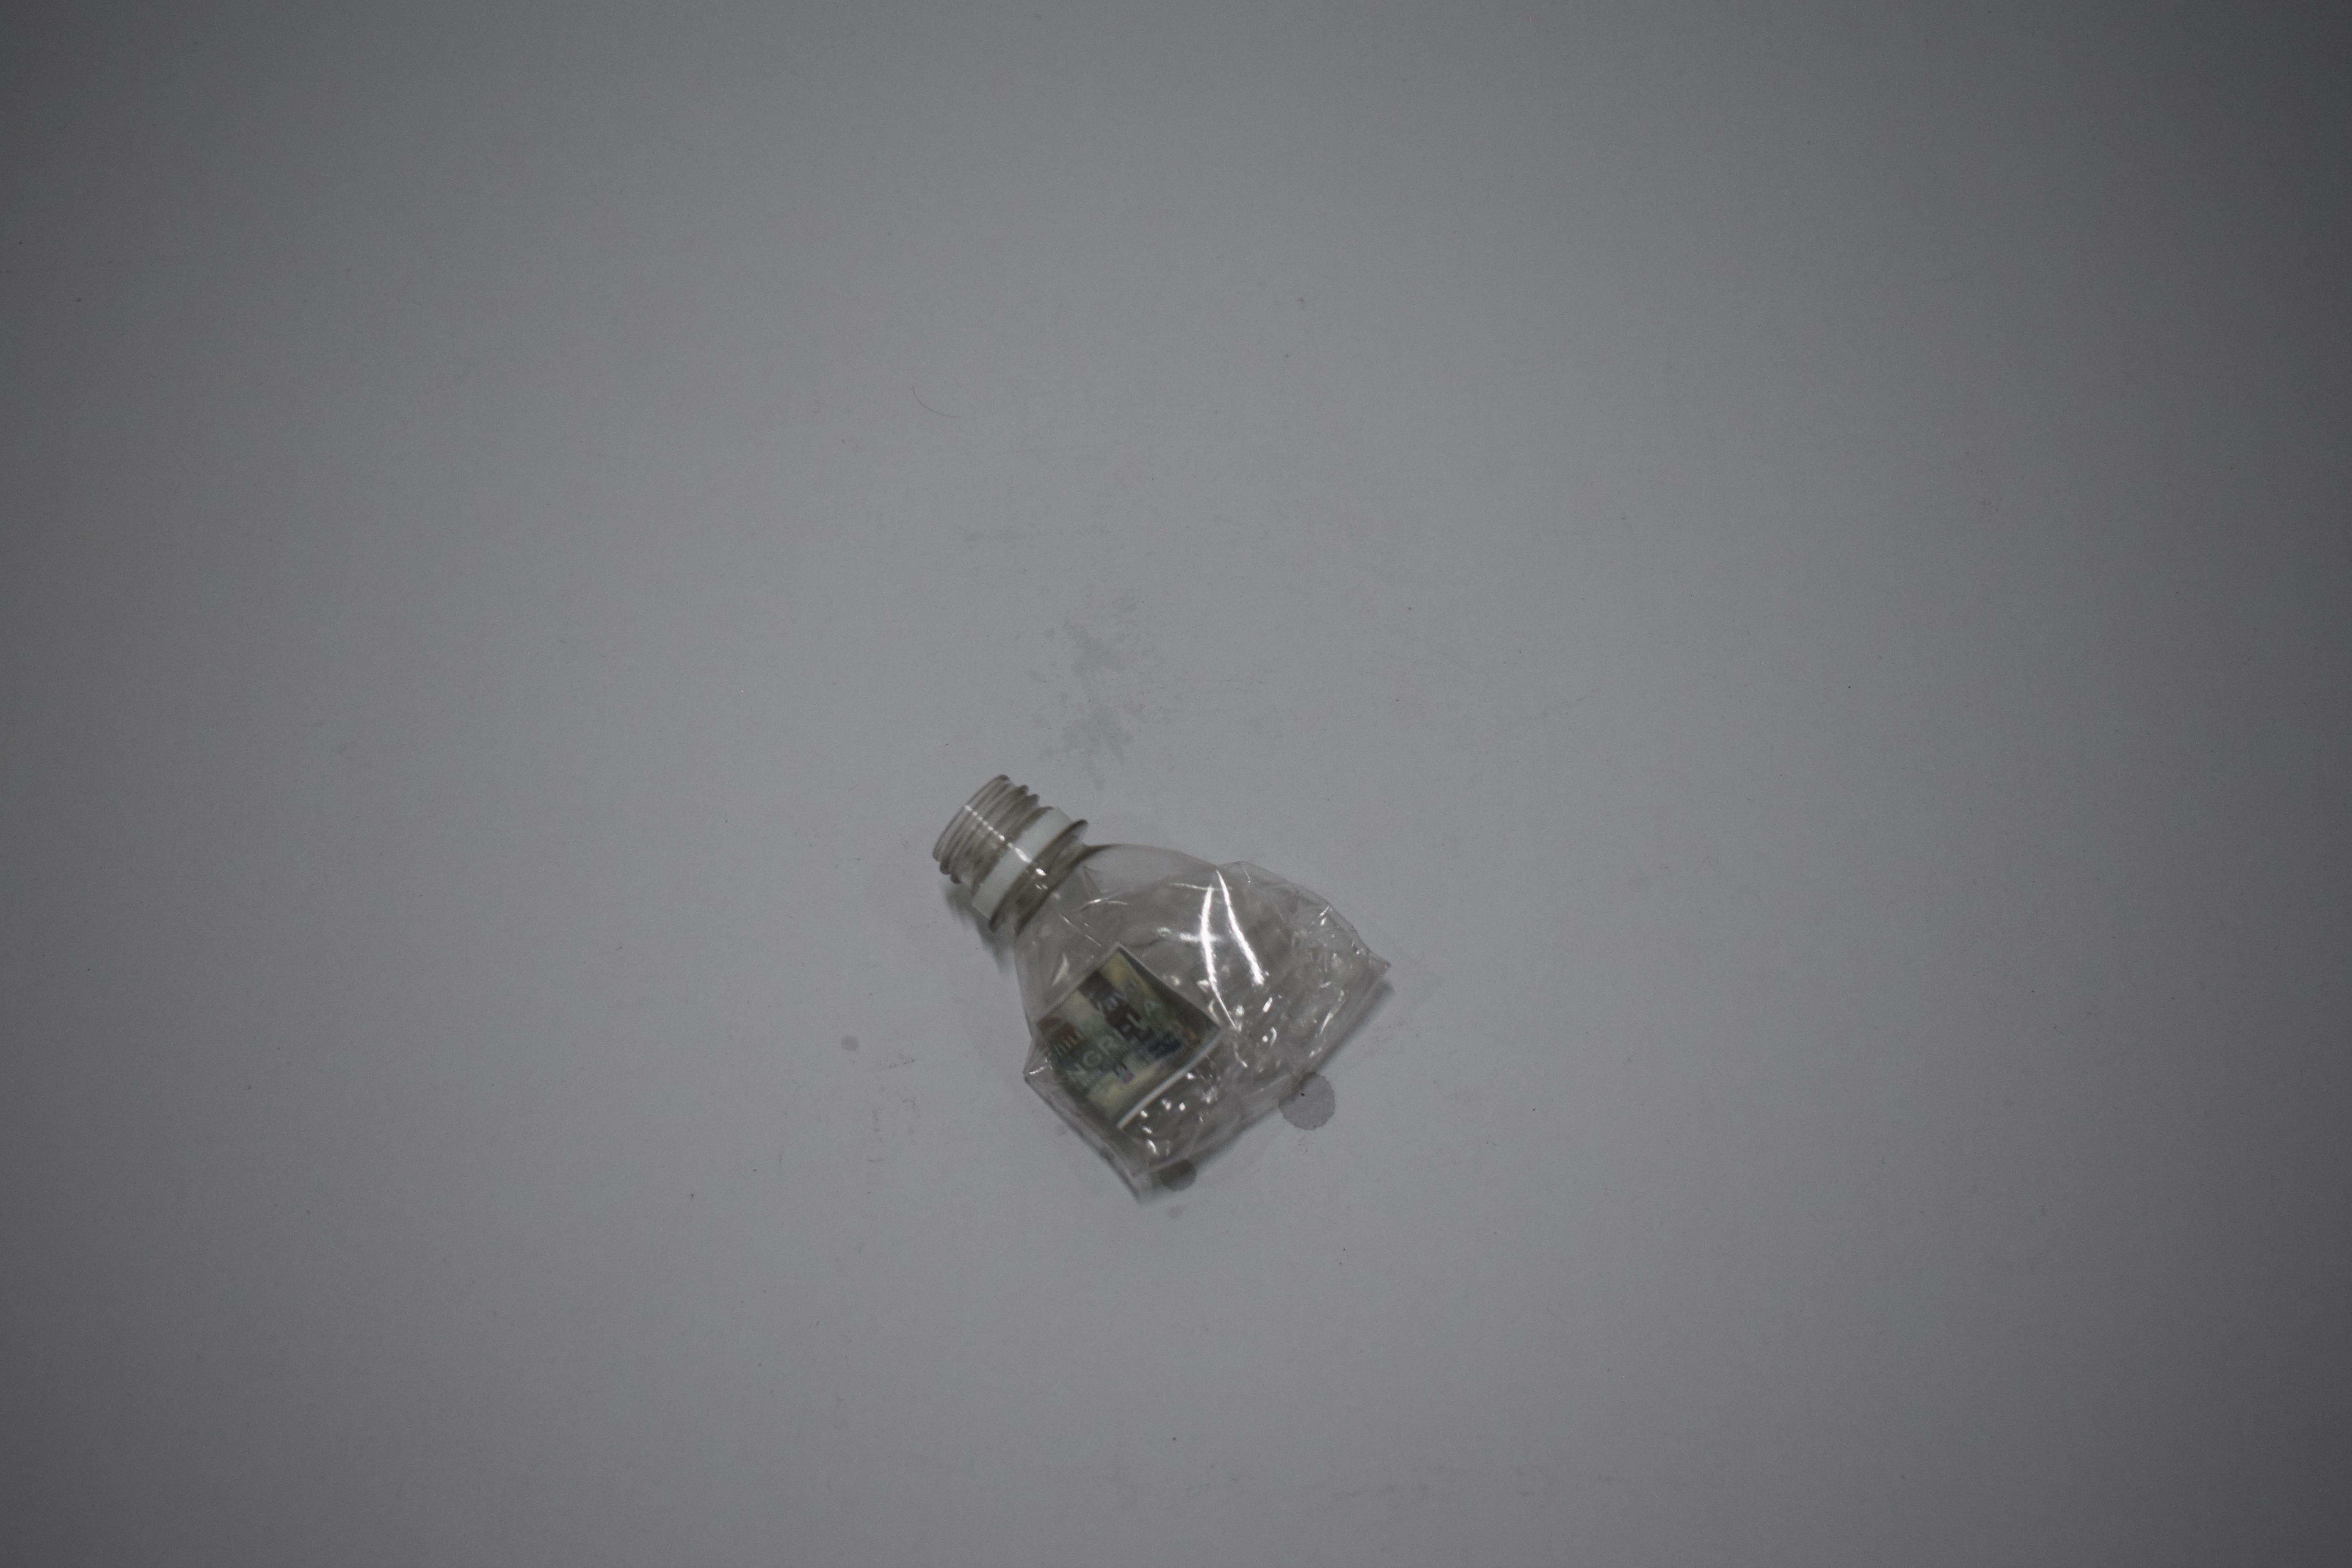bottle: (926, 765, 1400, 1208)
